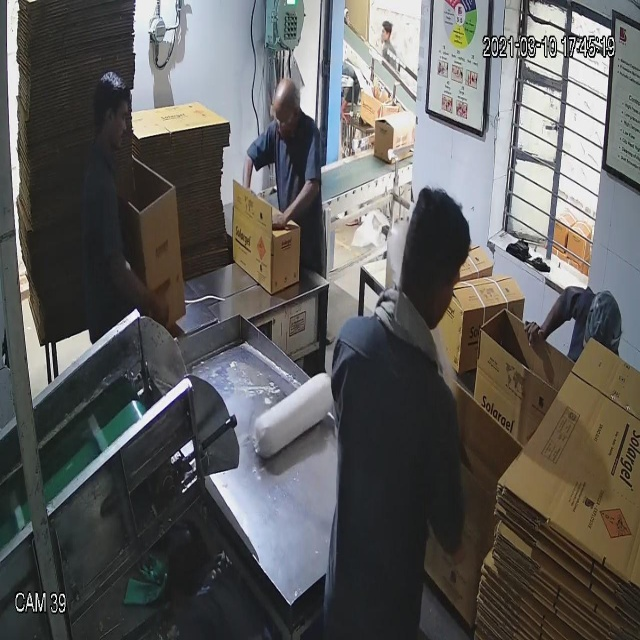Sin_guantes: (108, 241, 174, 335), (525, 276, 589, 359), (264, 174, 328, 237), (238, 142, 257, 215)
